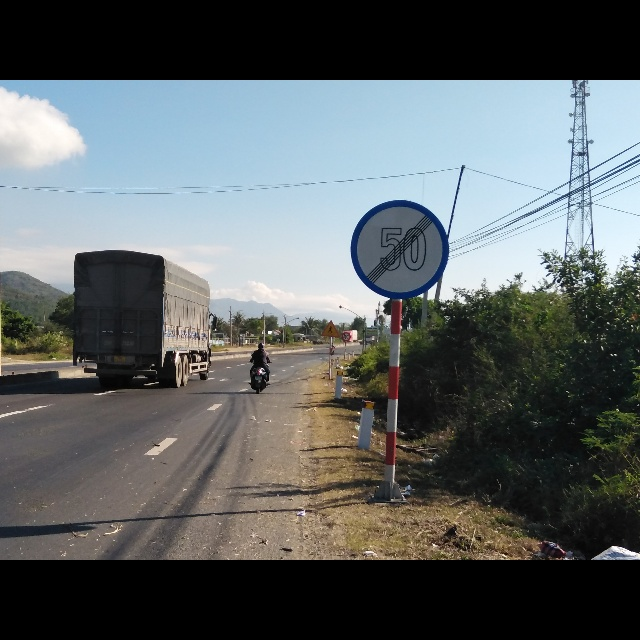Hết hạn chế tốc độ tối đa 50km/h: (347, 198, 450, 302)
